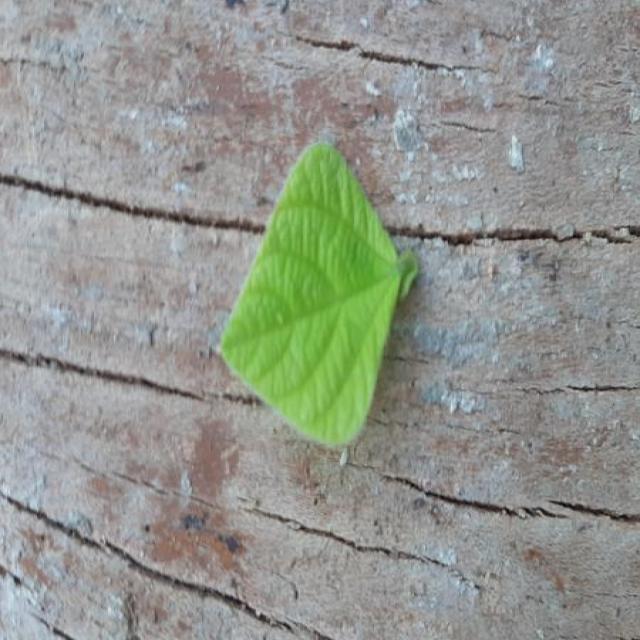beans: (220, 142, 418, 444)
